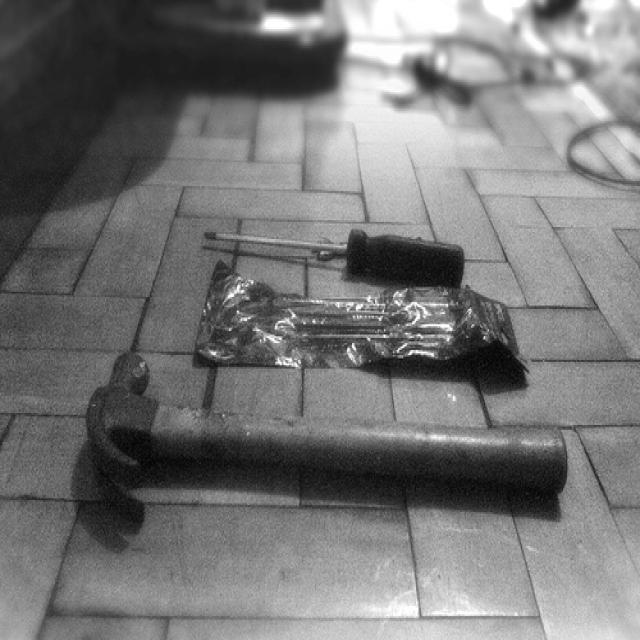hammer: (73, 307, 576, 582)
screw driver: (186, 177, 473, 286)
